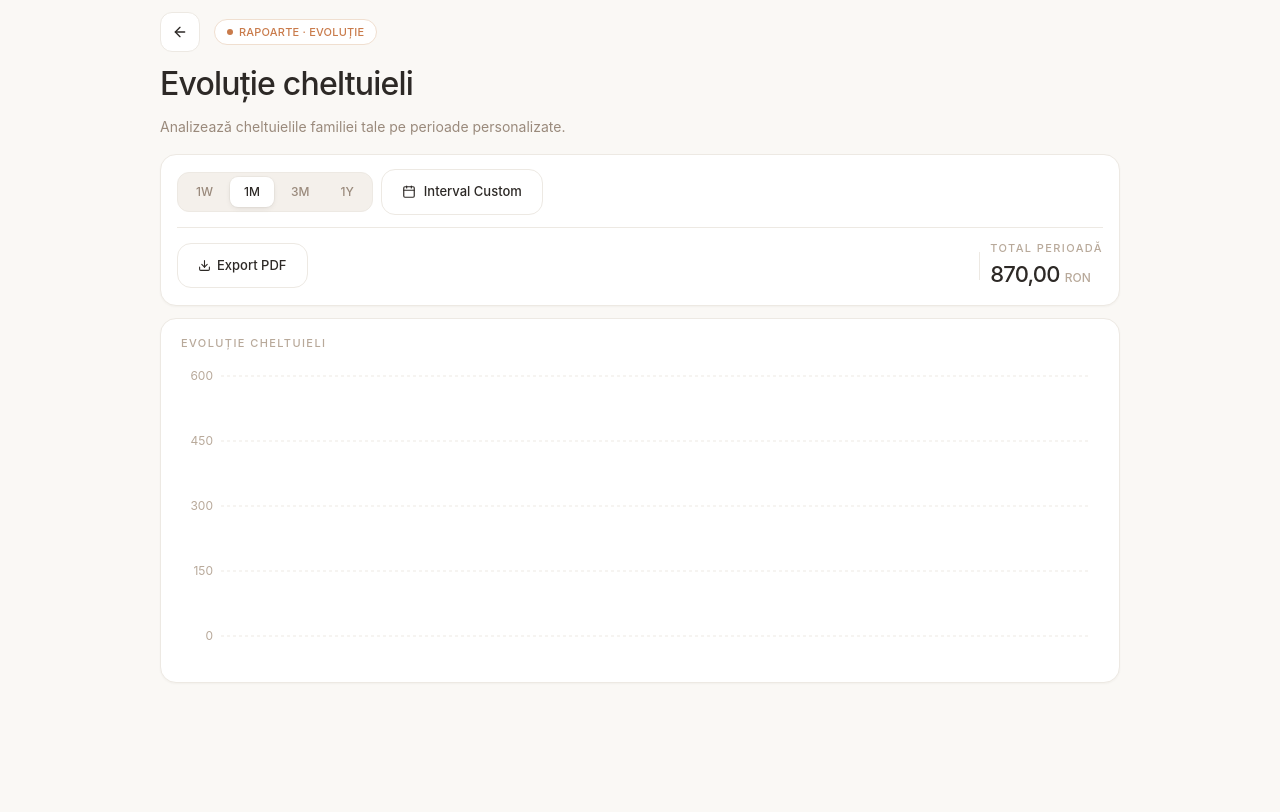
Test: Reports Component › butonul Aplică este dezactivat cu date incomplete
Click the button "Interval Custom".
click(462, 192)  # box [381, 169, 543, 215]
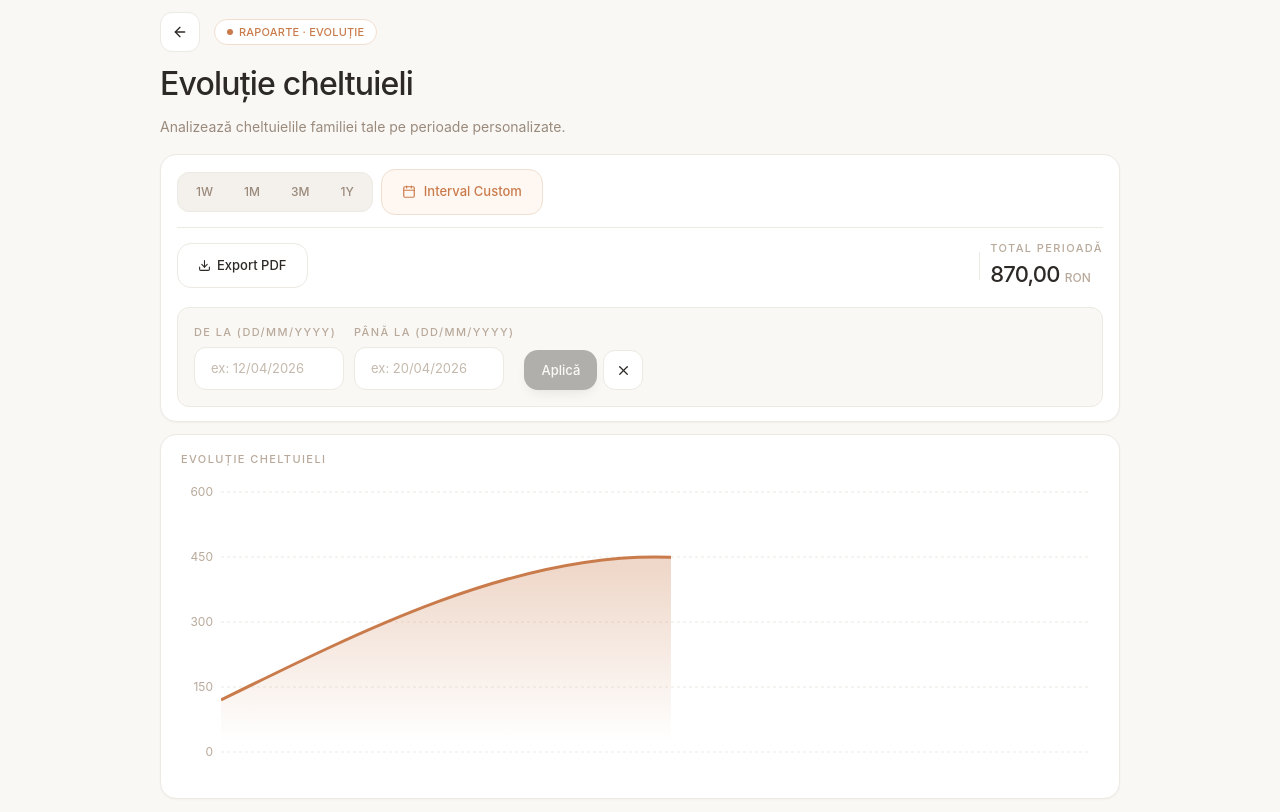
expect the button "Aplică" is disabled: met, box [524, 350, 597, 390]
